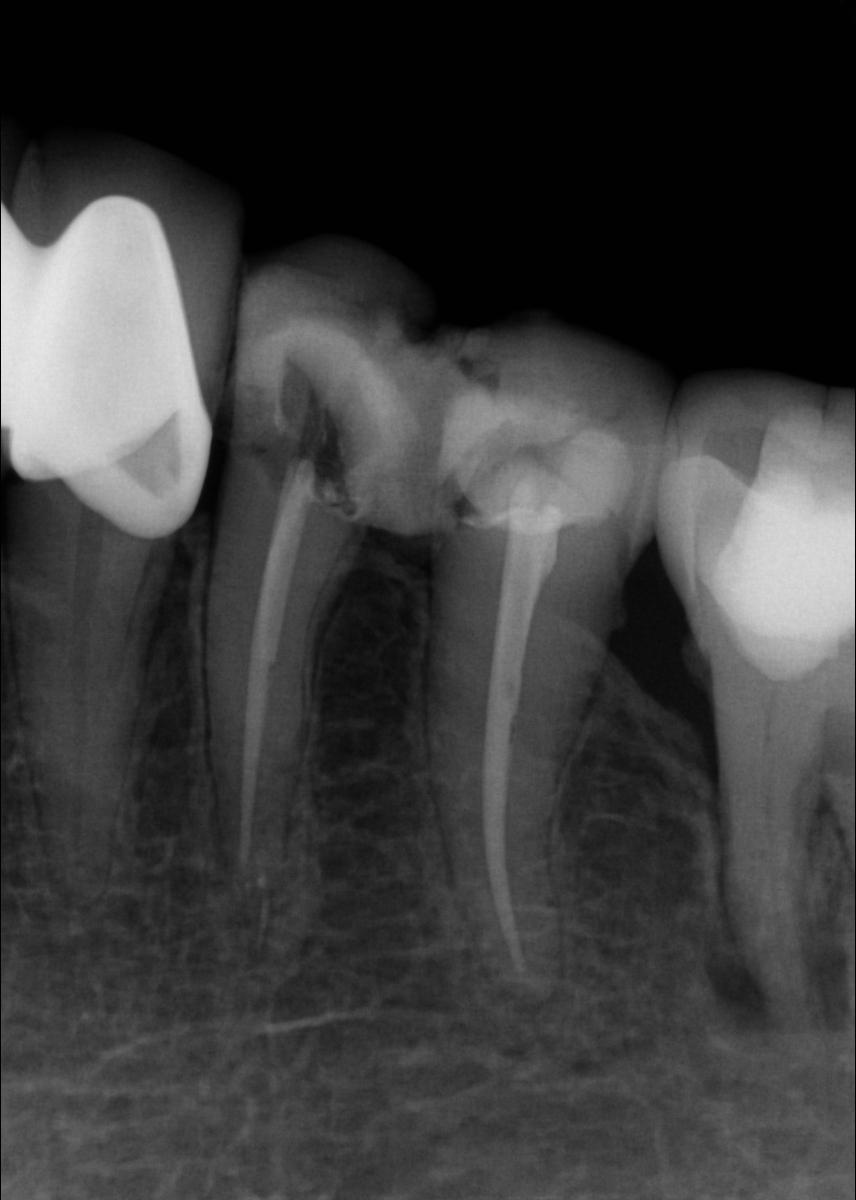Furcation Involvement: (707, 953, 779, 1035), (806, 949, 853, 1034)
